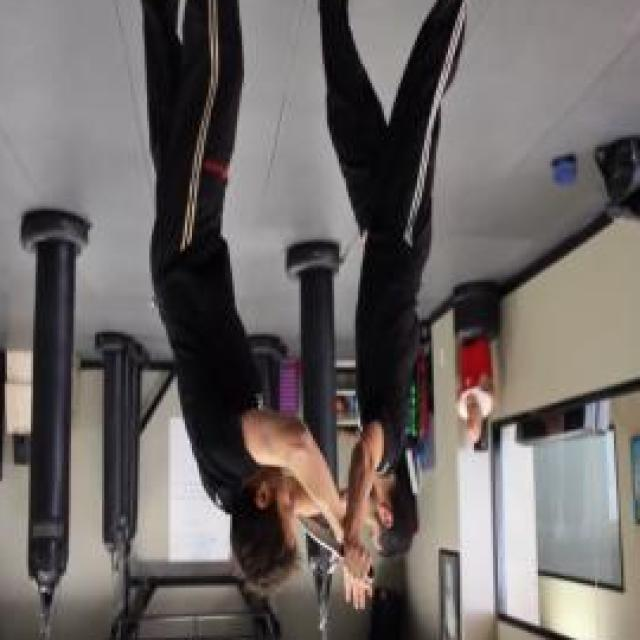knife: (293, 505, 377, 590)
